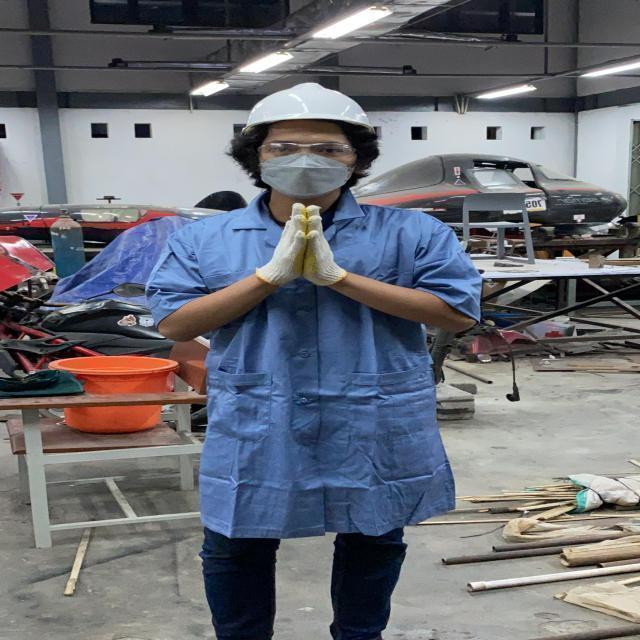helmet: (234, 79, 382, 139)
